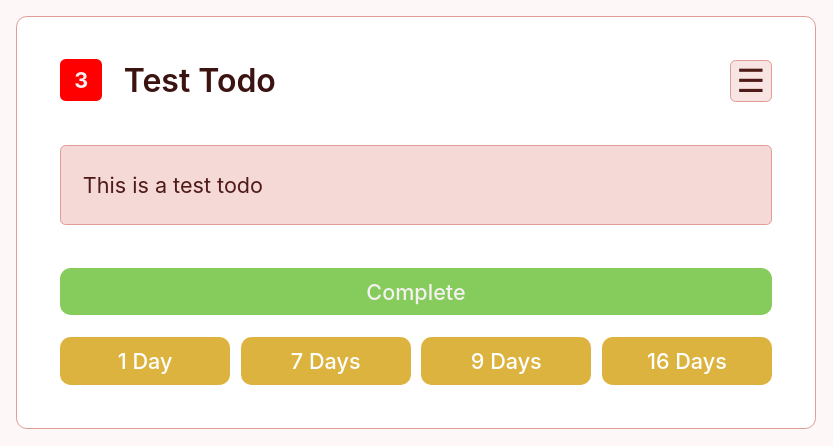
Scenario: FocusedTodo.svelte › should open menu when menu button is clicked
Click the button named "Menu": (751, 81) [730,60,772,102]
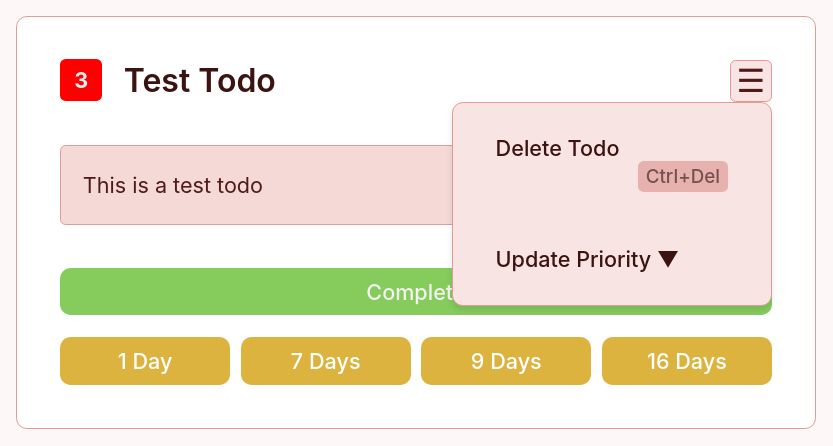
Now the button "Delete Todo Ctrl+Del" is shown, box [464,114,760,214]
Now the button "Update Priority ▼" is shown, box [464,224,760,294]
